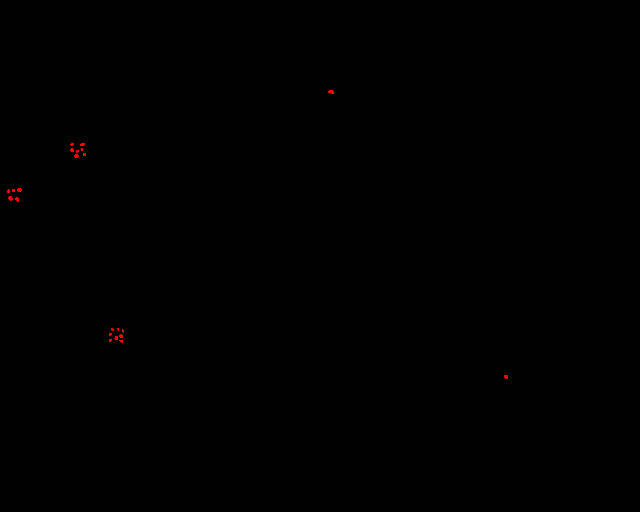Target: (8, 196, 13, 201), (328, 90, 334, 94), (74, 154, 79, 158), (17, 188, 22, 192), (15, 197, 19, 202), (70, 148, 74, 152), (119, 334, 123, 338), (114, 336, 118, 340), (504, 375, 508, 379), (80, 143, 85, 146), (70, 143, 74, 146), (7, 189, 10, 193), (119, 340, 123, 343), (76, 150, 79, 153), (83, 153, 86, 156), (12, 189, 15, 192), (111, 328, 114, 331), (109, 333, 112, 336), (109, 339, 112, 342), (122, 329, 124, 333), (81, 148, 83, 151), (117, 328, 119, 331)
